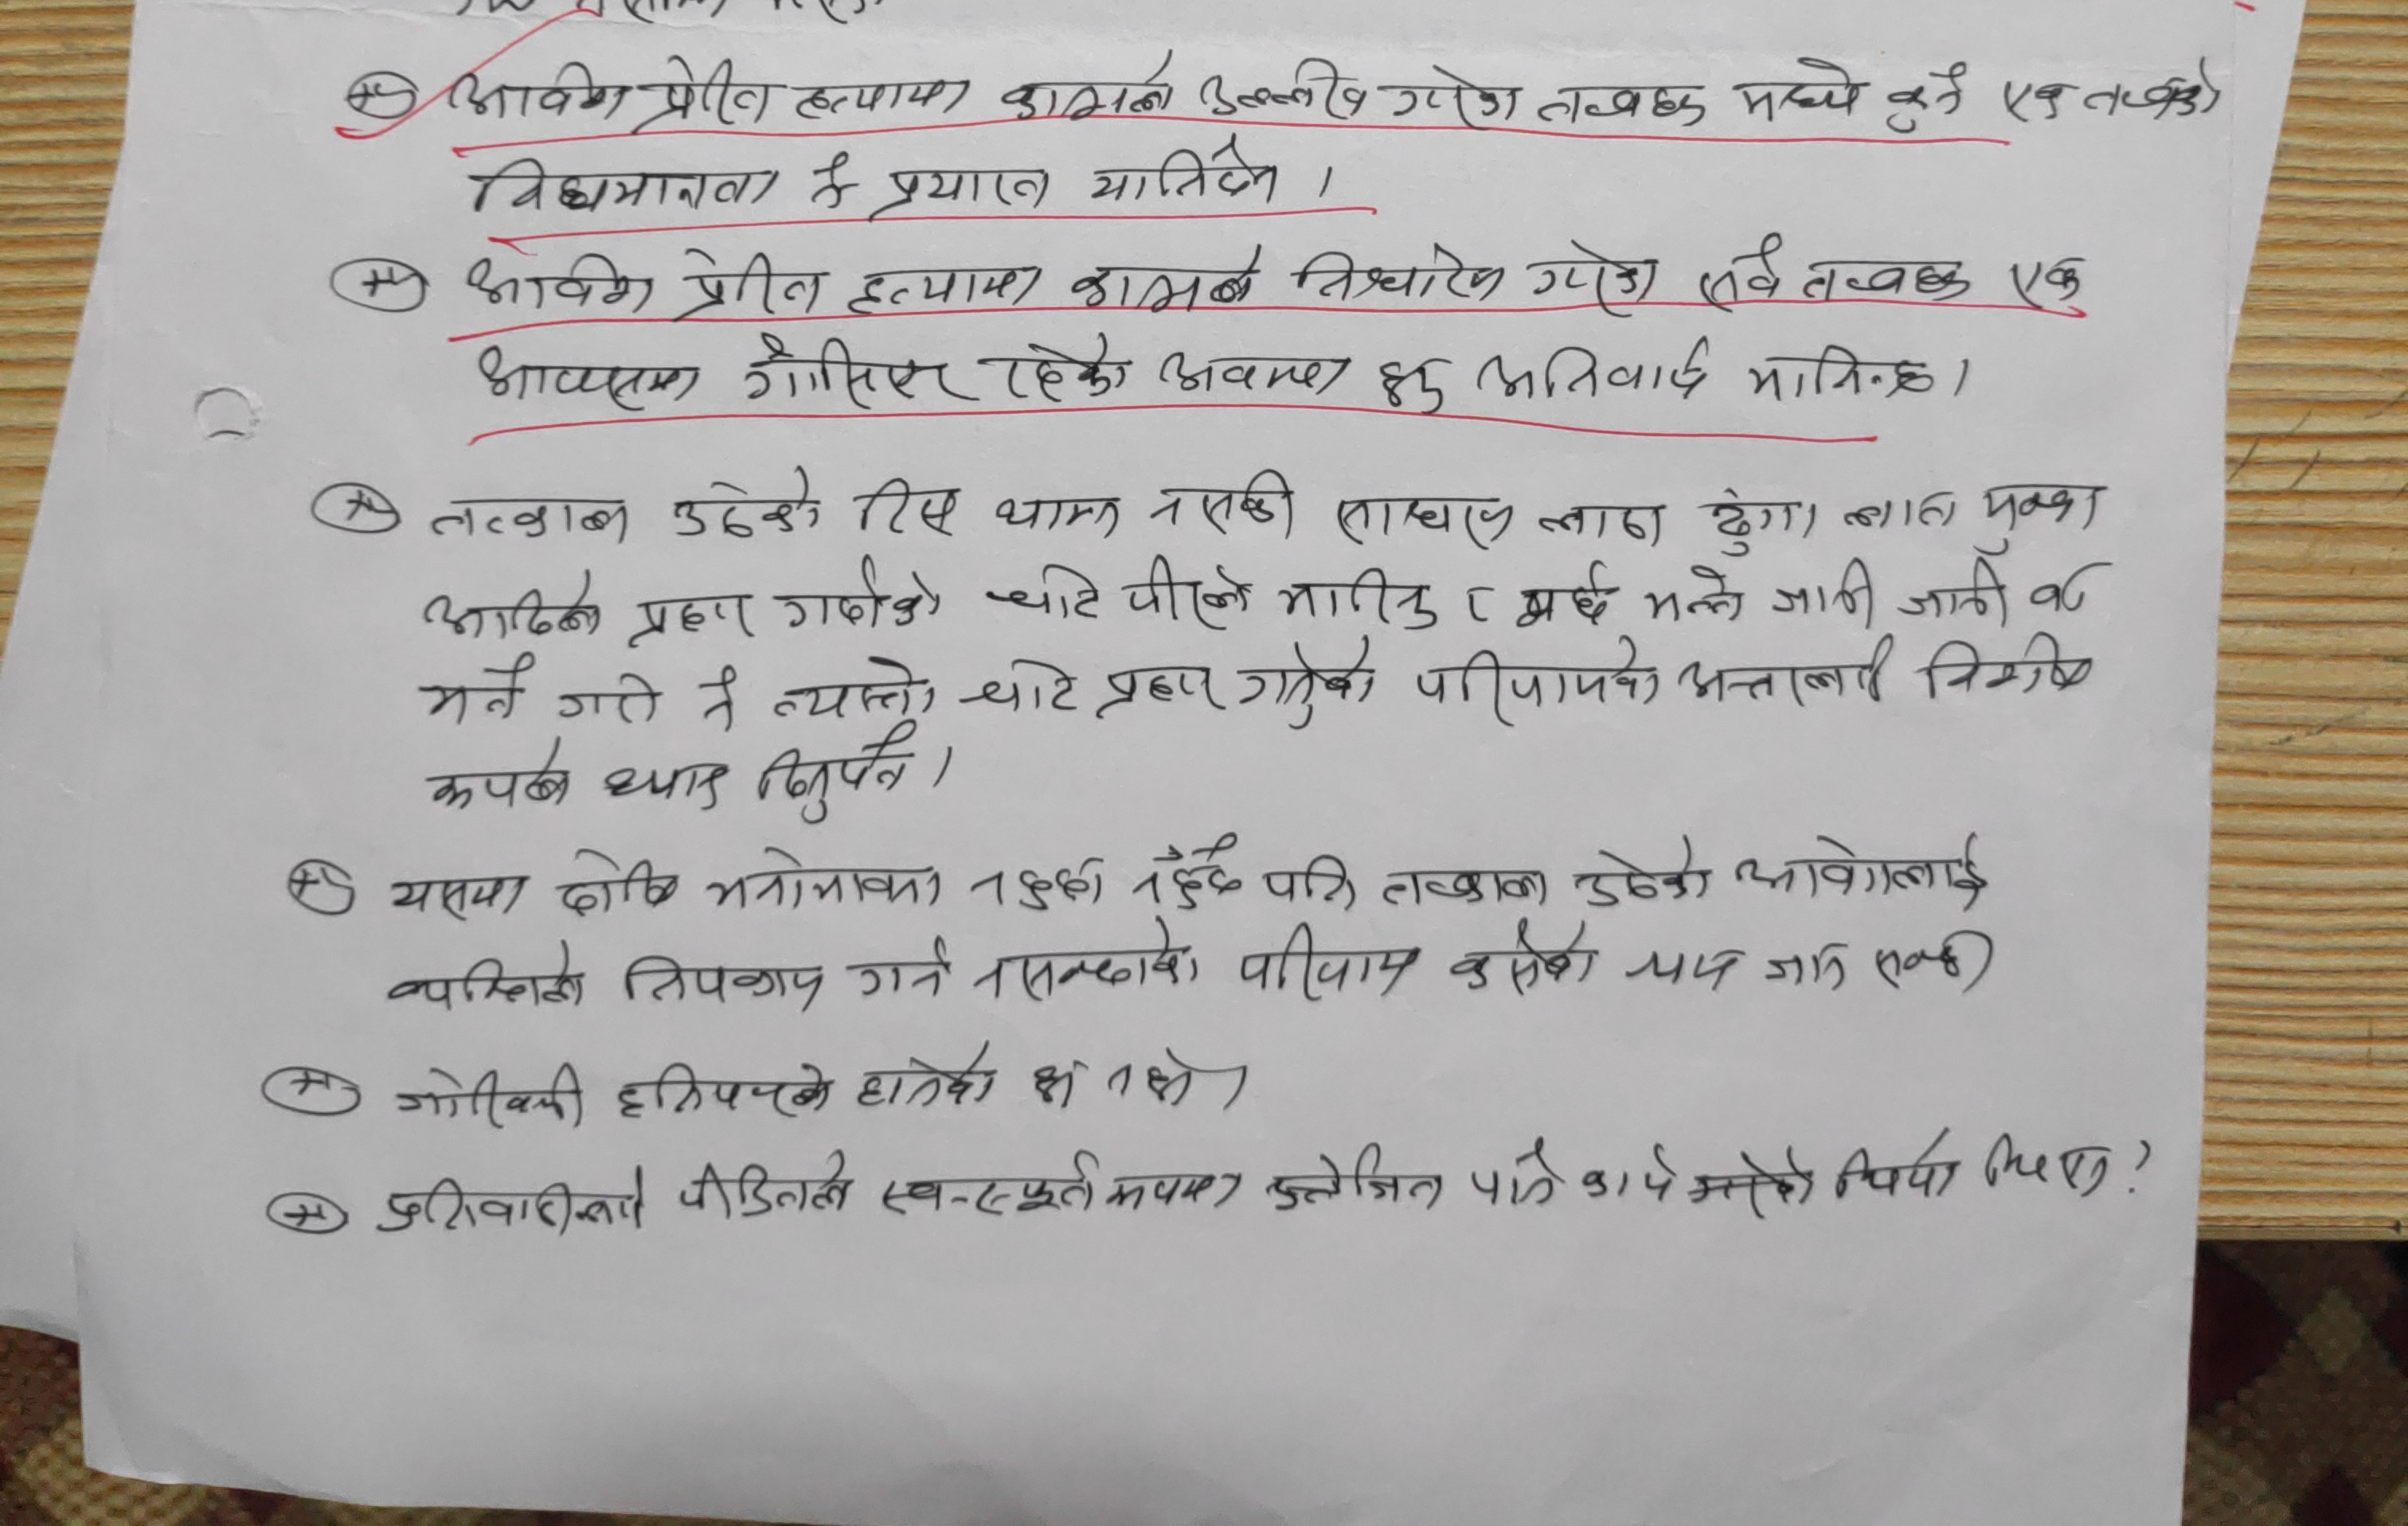text: (1411, 640, 1671, 730), (372, 1168, 667, 1244), (972, 923, 1200, 1014), (477, 147, 781, 216), (1476, 323, 1711, 409), (1732, 833, 2003, 905), (728, 328, 972, 407), (1290, 228, 1513, 310), (1674, 628, 1892, 712), (706, 844, 951, 916), (414, 554, 606, 645), (753, 728, 918, 833), (470, 340, 706, 414), (386, 1054, 590, 1138), (1067, 239, 1269, 319), (384, 937, 586, 1017), (613, 1054, 835, 1126), (879, 1147, 1106, 1216), (672, 1149, 864, 1226), (772, 554, 955, 635), (1232, 921, 1418, 1000), (1260, 1137, 1444, 1216), (465, 242, 662, 314), (1237, 633, 1381, 731), (995, 49, 1176, 126), (1086, 135, 1279, 207), (1329, 486, 1518, 558), (623, 951, 832, 1016), (765, 649, 942, 724), (1530, 65, 1711, 139), (1267, 563, 1448, 637), (670, 460, 830, 542), (1444, 919, 1604, 1002), (1153, 342, 1355, 407), (1734, 337, 1934, 402), (444, 60, 632, 126), (1190, 54, 1365, 125), (425, 489, 641, 546), (1139, 463, 1299, 538), (1797, 247, 1974, 314), (1567, 835, 1716, 914), (548, 838, 690, 919), (677, 239, 825, 316), (428, 740, 576, 817), (1922, 637, 2104, 698), (1123, 553, 1262, 633), (842, 260, 1048, 314), (1978, 1130, 2122, 1205), (1829, 1131, 1971, 1207), (1973, 474, 2108, 553), (851, 1045, 1002, 1114), (414, 652, 542, 731), (993, 330, 1134, 402), (964, 852, 1114, 919), (1888, 549, 2013, 630), (646, 51, 781, 125), (879, 160, 1057, 216), (1732, 51, 1864, 125), (1530, 237, 1662, 310), (1704, 477, 1822, 560), (2082, 56, 2218, 126), (1385, 61, 1530, 126), (621, 588, 758, 656), (1090, 652, 1227, 721), (383, 865, 537, 924), (1125, 837, 1241, 916), (792, 74, 971, 125), (1376, 861, 1553, 912), (979, 560, 1111, 626), (958, 654, 1083, 724), (1513, 558, 1622, 637), (1690, 237, 1788, 321), (548, 667, 670, 733), (1636, 568, 1757, 635), (1769, 560, 1878, 633), (849, 928, 958, 1002), (1467, 1137, 1564, 1217), (1100, 1165, 1243, 1219), (1534, 493, 1671, 549), (988, 486, 1125, 540), (1625, 940, 1748, 1000), (1576, 1145, 1683, 1214), (600, 756, 730, 810), (1838, 484, 1964, 538), (1880, 60, 1973, 133), (1753, 931, 1855, 998), (856, 475, 955, 542), (2008, 246, 2094, 321), (1255, 854, 1362, 912), (1371, 346, 1453, 410), (2022, 563, 2106, 621), (1996, 67, 2068, 130), (692, 661, 744, 742), (1458, 586, 1495, 635)
